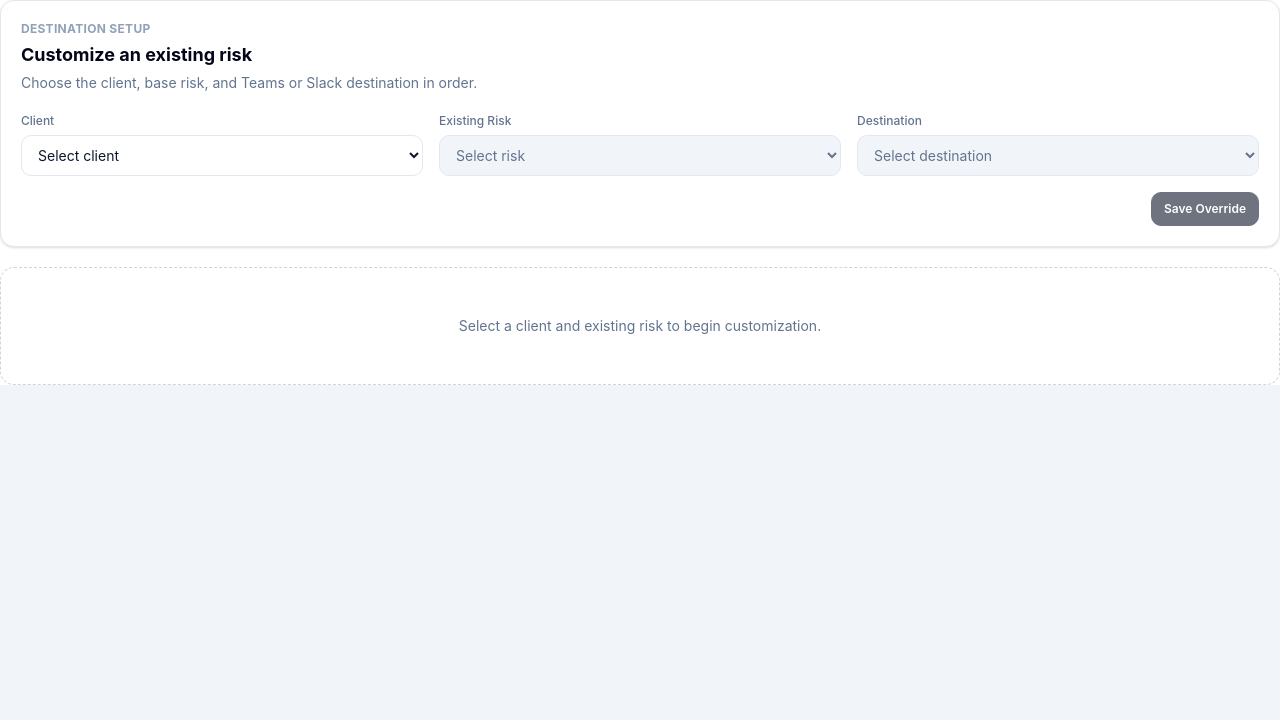
Scenario: CustomizeExistingRisk › distinguishes risk fetch failures from risk parsing failures
Select "Acme" in the dropdown labelled "Client" at (222, 156), box [21,135,423,176]
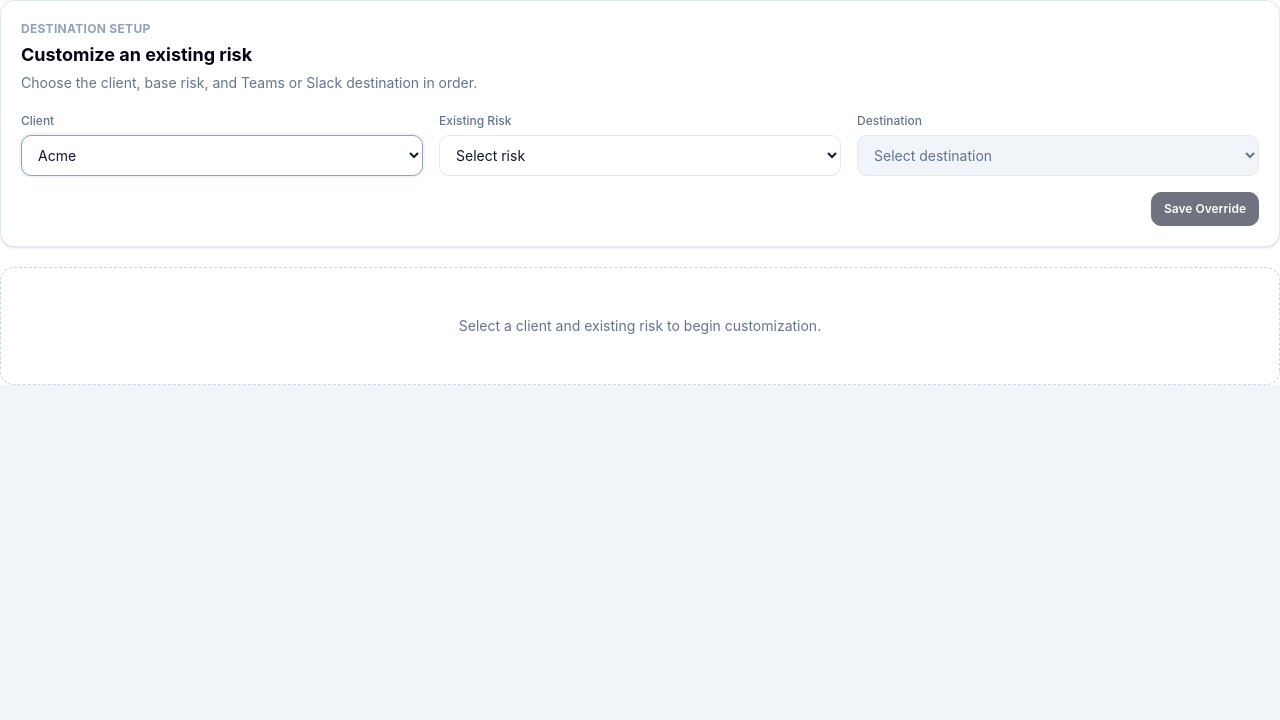
Select "Base Risk Title · RSK-1 · high" in the dropdown labelled "Existing Risk" at (640, 156), box [439,135,841,176]
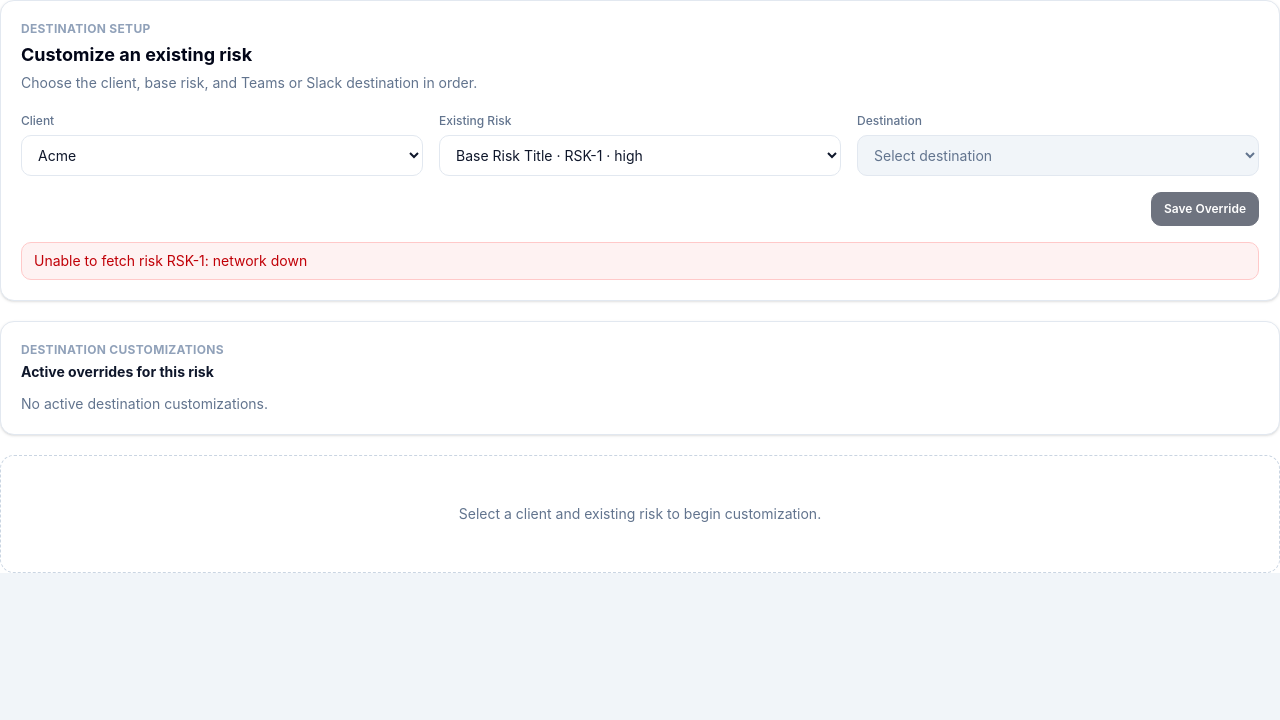
Now the message reads "Unable to fetch risk RSK-1: network down", box [34,252,307,269]
Select "Base Risk Title · RSK-1 · high" in the dropdown labelled "Existing Risk" at (640, 156), box [439,135,841,176]
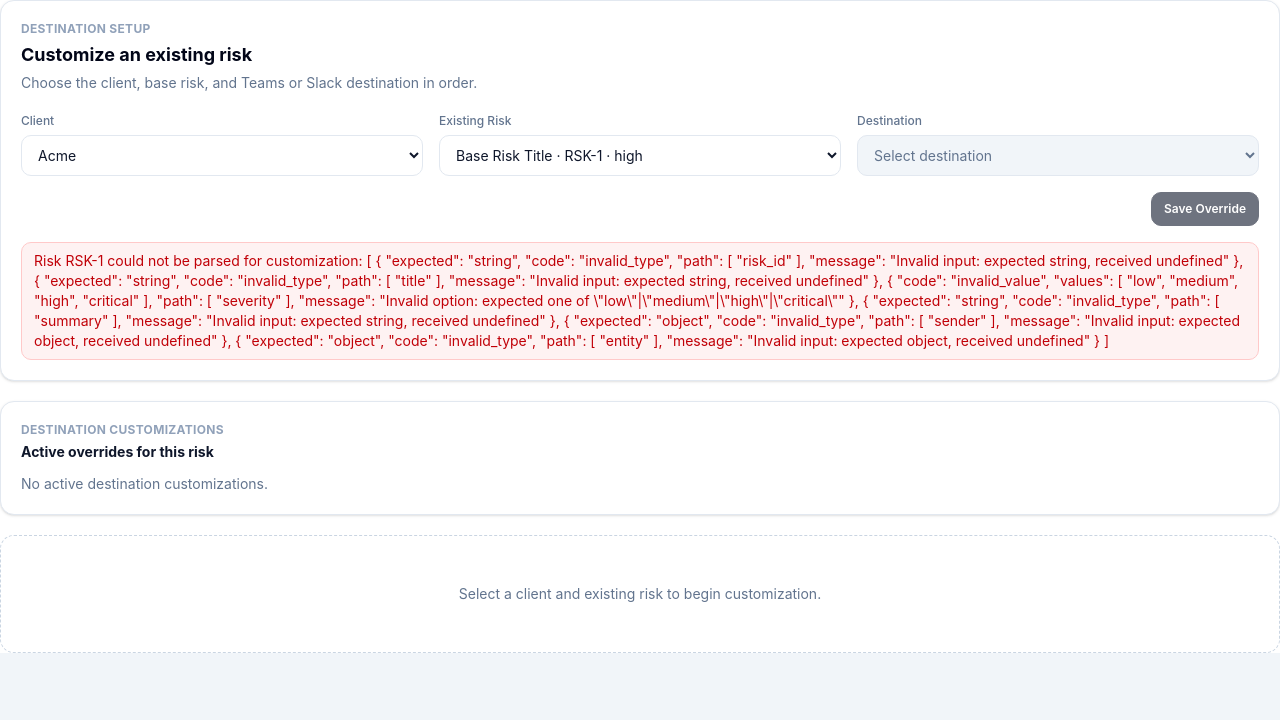
Now the message shows "Risk RSK-1 could not be parsed for customization:", box [34,252,1243,349]
